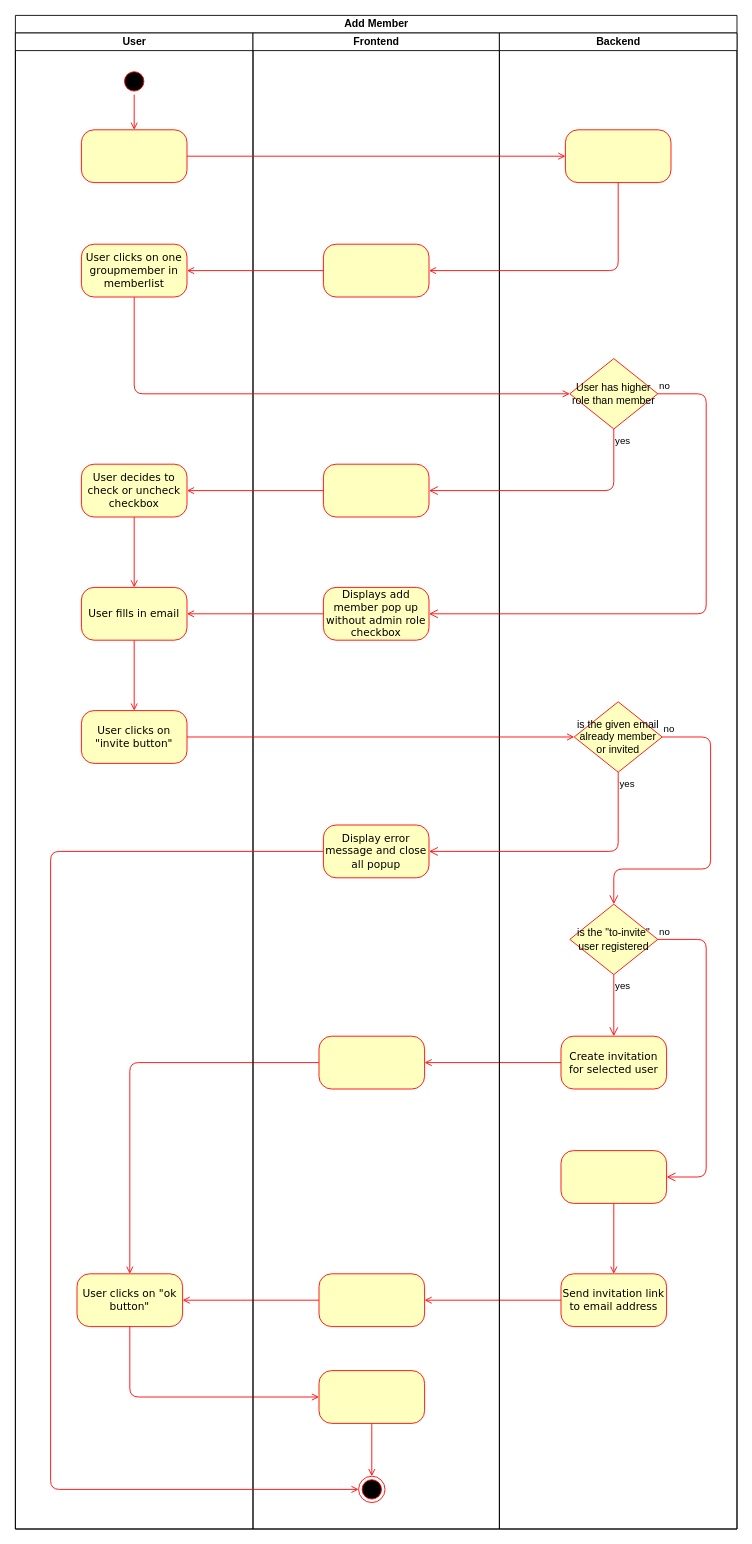
The diagram is 752 pixels wide and 1544 high, and some of its shapes have lost their labels. Here are the shapes that lost their labels. From the top down, the centre of each, then its label:
(x=134, y=156): User clicks on "edit button" for group settings
(x=618, y=156): Loads current selected group data
(x=376, y=270): Displays config view with loaded data
(x=376, y=490): Displays add member pop up with admin role checkbox
(x=371, y=1062): Displays "user invited" message
(x=613, y=1176): Generate invitation link
(x=371, y=1300): Displays "send invitation email" message
(x=371, y=1396): Close add member popup
